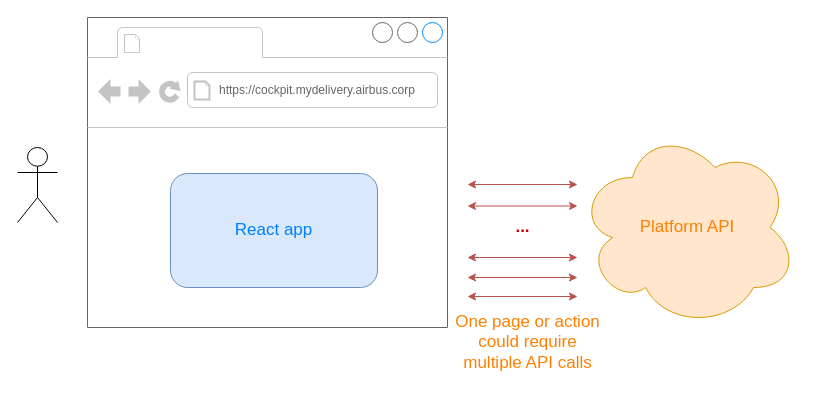
Image size: 815x395. Some labels were removed from this diagram. Each missing label, with the centre of its shape:
"actor" goes at [37,184].
"occ app" goes at [202,42].
